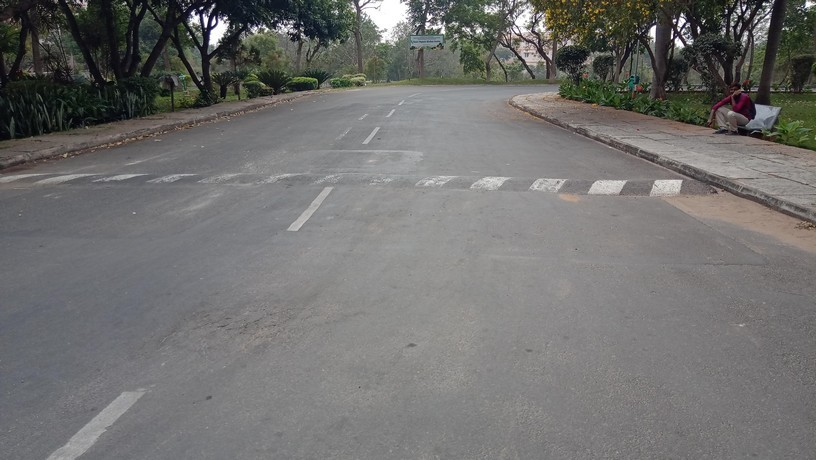bump: (1, 170, 722, 193)
